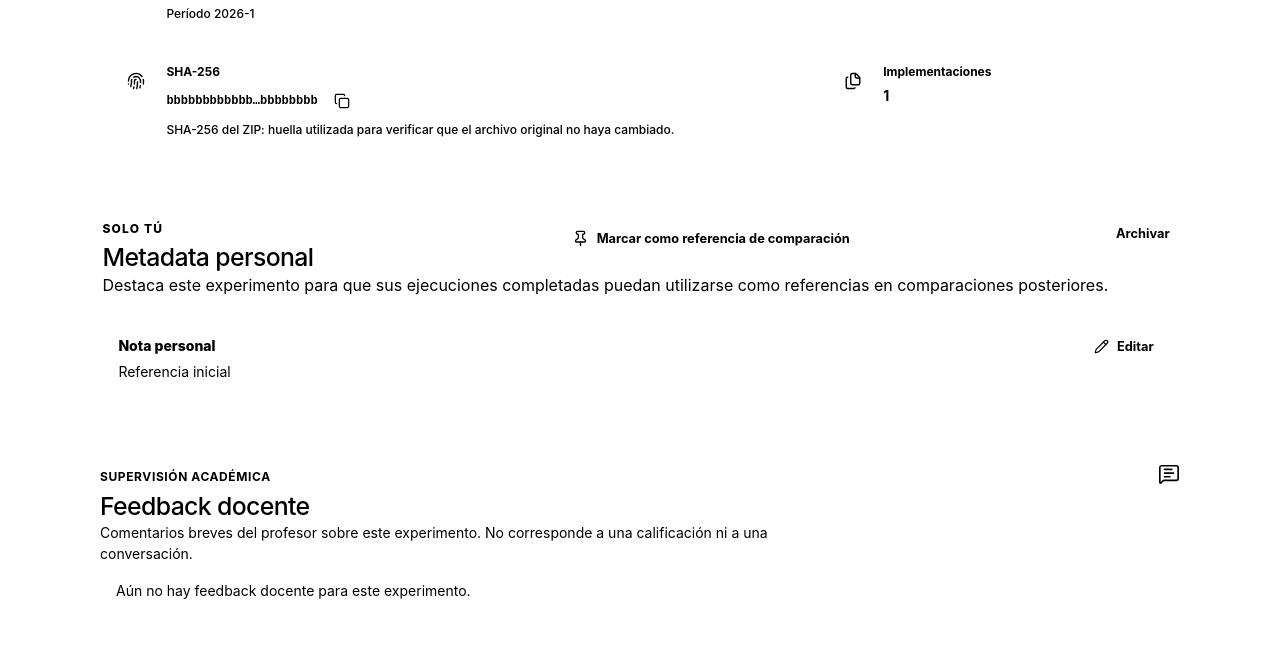
Test: SubmissionOverviewPage › owner sees note and reference and can start note editing
(page scrolled)
Expected: the heading "Metadata personal" is shown, x1=102 y1=242 x2=313 y2=273
Expected: the text "Referencia inicial" is shown, x1=118 y1=363 x2=231 y2=380
Click the button "Editar" at [1124, 347], box x1=1086 y1=333 x2=1162 y2=360
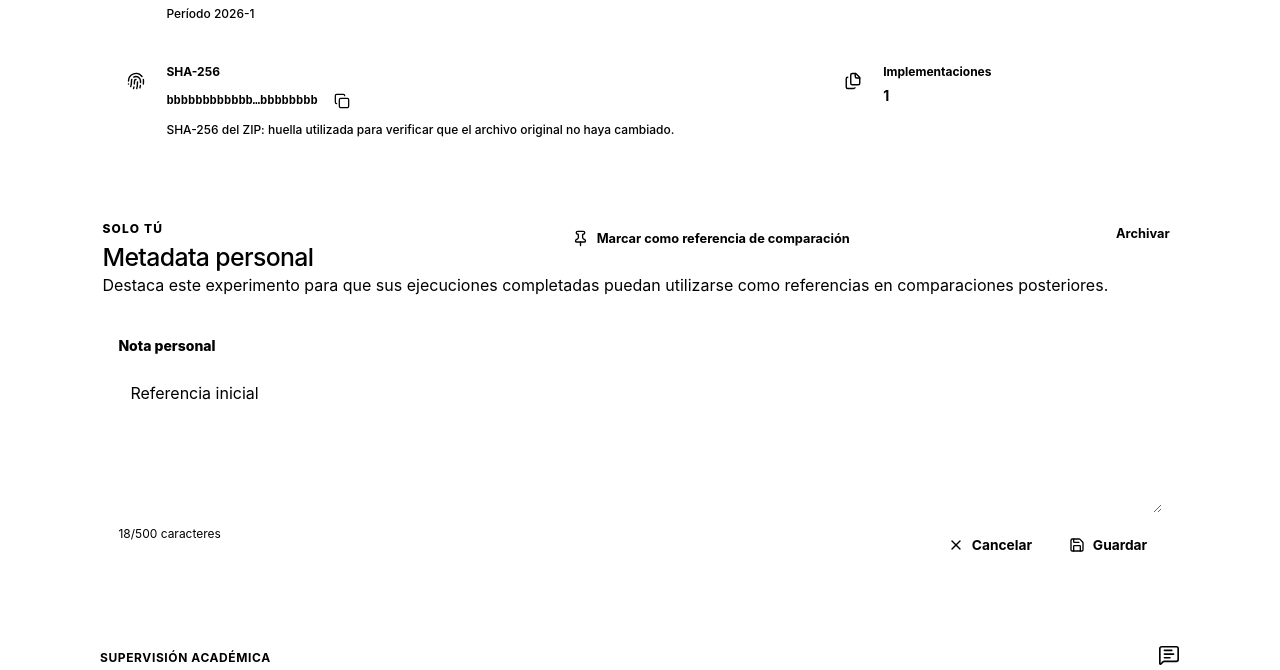
Now the text box labelled "Nota personal" holds "Referencia inicial", box x1=118 y1=369 x2=1162 y2=513
Now the text "18/500 caracteres" is shown, box x1=118 y1=525 x2=221 y2=543
